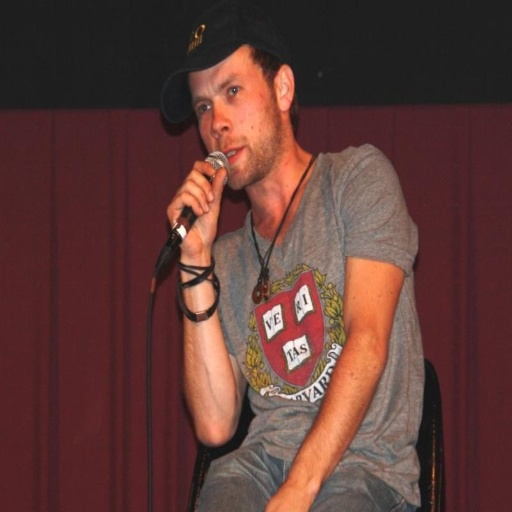hand: (165, 154, 234, 288), (263, 484, 312, 510)
